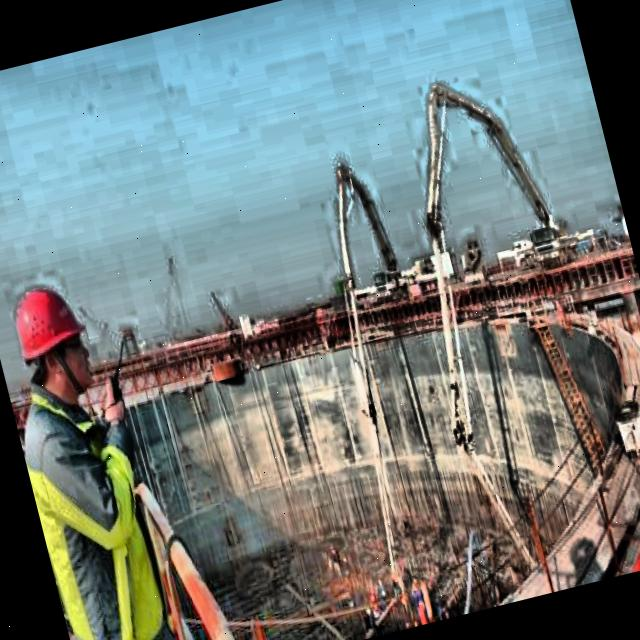helmet: (0, 266, 107, 419)
